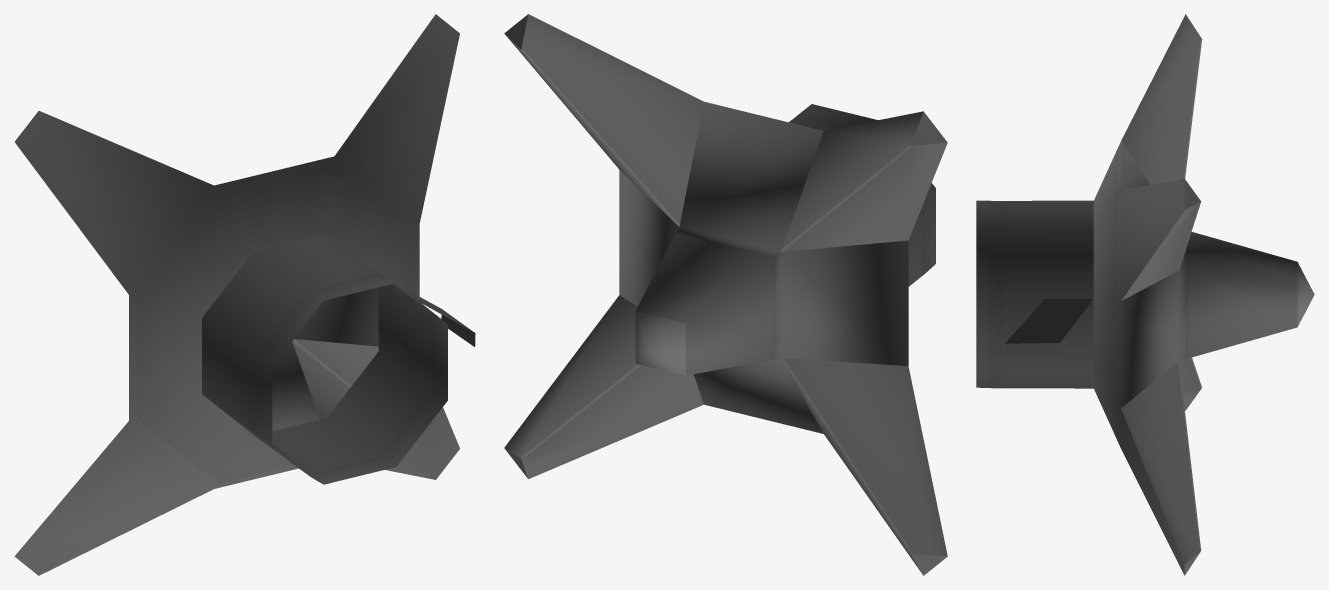
The model's file is stat_bottom4.glb.
The picture shows the model from 3 angles, left to right: view 1: azimuth 30°, elevation 25°; view 2: azimuth 150°, elevation 25°; view 3: azimuth 270°, elevation 25°; orthographic projection. The views are drawn at different scales.
Visible parts, largest first — view 1: group_19; view 2: group_19; view 3: group_19.
Boxes of the visible parts, <box> form: group_19: <box>14,14,475,575</box>; group_19: <box>504,14,947,575</box>; group_19: <box>976,14,1314,575</box>.
Size of the model in its own units: 19164 by 19176 by 14803.
2 materials, 2 textured.
